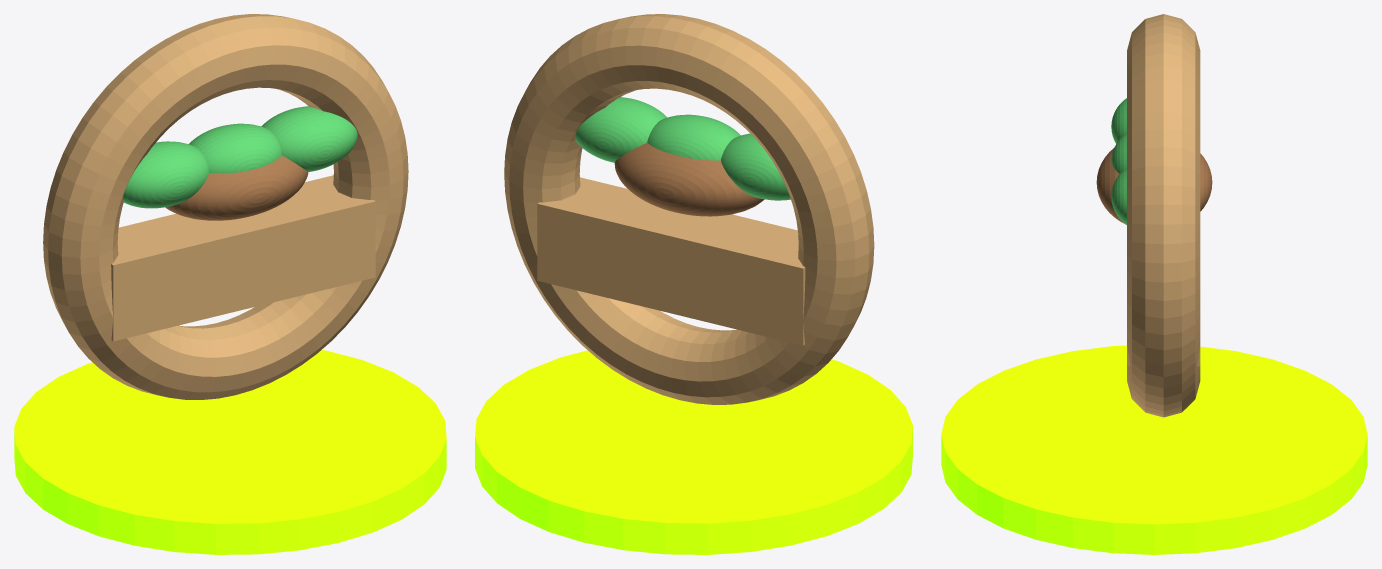
The model's file is food_taco.glb.
3 renders of one model, left to right at view 1: azimuth 30°, elevation 25°; view 2: azimuth 150°, elevation 25°; view 3: azimuth 270°, elevation 25°, orthographic. The views are drawn at different scales.
Visible parts, largest first — view 1: 01_05_Popular_Food_Taco_ROOT_base, 01_05_Popular_Food_Taco_part_01, 01_05_Popular_Food_Taco_part_02, 01_05_Popular_Food_Taco_part_06, 01_05_Popular_Food_Taco_part_03, 01_05_Popular_Food_Taco_part_05, 01_05_Popular_Food_Taco_part_04; view 2: 01_05_Popular_Food_Taco_ROOT_base, 01_05_Popular_Food_Taco_part_01, 01_05_Popular_Food_Taco_part_02, 01_05_Popular_Food_Taco_part_06, 01_05_Popular_Food_Taco_part_05, 01_05_Popular_Food_Taco_part_04, 01_05_Popular_Food_Taco_part_03; view 3: 01_05_Popular_Food_Taco_ROOT_base, 01_05_Popular_Food_Taco_part_01, 01_05_Popular_Food_Taco_part_06, 01_05_Popular_Food_Taco_part_05.
Boxes of the visible parts, box(x1,y1,x2,y2) form: 01_05_Popular_Food_Taco_ROOT_base: box(14, 350, 446, 554); 01_05_Popular_Food_Taco_part_01: box(43, 14, 408, 399); 01_05_Popular_Food_Taco_part_02: box(111, 175, 375, 341); 01_05_Popular_Food_Taco_part_06: box(165, 155, 308, 220); 01_05_Popular_Food_Taco_part_03: box(123, 141, 209, 208); 01_05_Popular_Food_Taco_part_05: box(261, 106, 357, 171); 01_05_Popular_Food_Taco_part_04: box(189, 123, 281, 173); 01_05_Popular_Food_Taco_ROOT_base: box(475, 350, 912, 554); 01_05_Popular_Food_Taco_part_01: box(504, 14, 874, 404); 01_05_Popular_Food_Taco_part_02: box(537, 177, 805, 345); 01_05_Popular_Food_Taco_part_06: box(614, 142, 764, 216); 01_05_Popular_Food_Taco_part_05: box(575, 97, 666, 162); 01_05_Popular_Food_Taco_part_04: box(647, 114, 740, 160); 01_05_Popular_Food_Taco_part_03: box(721, 133, 790, 200); 01_05_Popular_Food_Taco_ROOT_base: box(941, 345, 1367, 554); 01_05_Popular_Food_Taco_part_01: box(1127, 14, 1200, 417); 01_05_Popular_Food_Taco_part_06: box(1096, 148, 1212, 223); 01_05_Popular_Food_Taco_part_05: box(1111, 168, 1126, 224).
Size of the model in its own units: 0.76 by 0.85 by 0.76.
